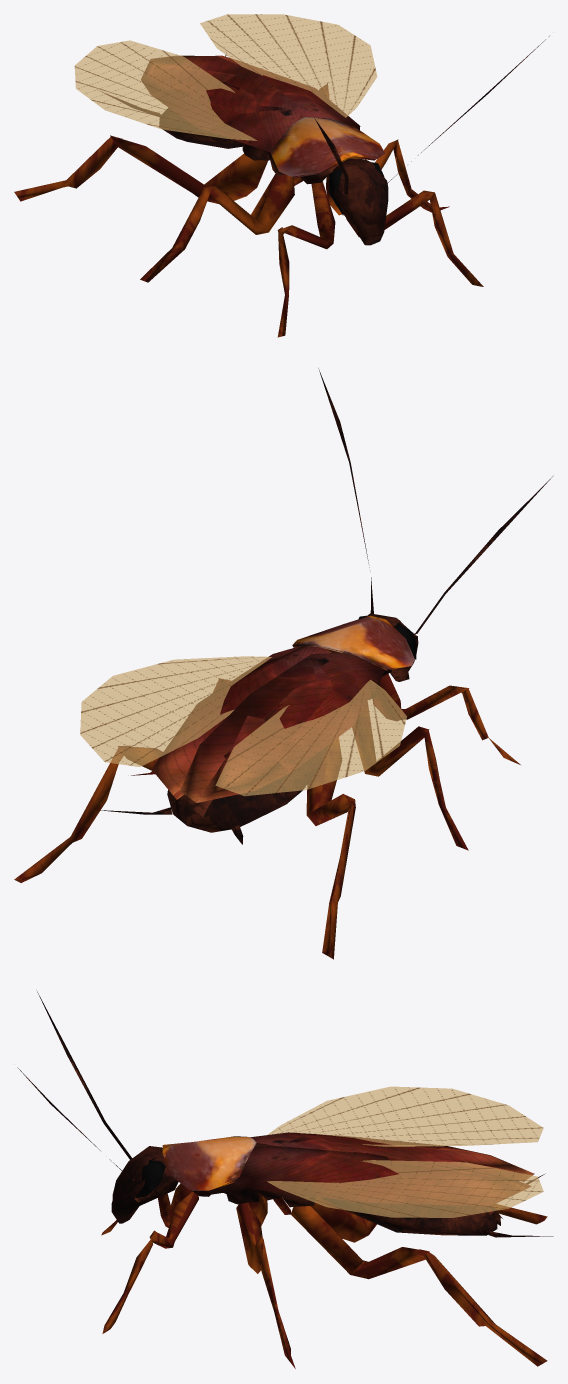
Rendered from cockroach_flight_low.glb.
3 renders of one model, top to bottom at view 1: azimuth 30°, elevation 25°; view 2: azimuth 150°, elevation 25°; view 3: azimuth 270°, elevation 25°, orthographic. The views are drawn at different scales.
Parts seen in each view (by area): view 1: body, wing_right, wing_left, elytron_left, leg_left_back, leg_left_middle, leg_left_front, elytron_right, leg_right_front, leg_right_middle; view 2: elytron_left, wing_right, wing_left, body, elytron_right, leg_left_back, leg_left_middle, leg_right_back, leg_left_front; view 3: body, elytron_right, wing_left, wing_right, leg_right_back, elytron_left, leg_right_middle, leg_left_back, leg_right_front, leg_left_front, leg_left_middle.
Boxes of the visible parts, bbox=[...] form: body: bbox=[100, 36, 549, 245]; wing_right: bbox=[200, 14, 377, 117]; wing_left: bbox=[74, 40, 257, 140]; elytron_left: bbox=[141, 55, 301, 151]; leg_left_back: bbox=[14, 135, 267, 203]; leg_left_middle: bbox=[140, 174, 294, 282]; leg_left_front: bbox=[277, 181, 335, 337]; elytron_right: bbox=[192, 55, 360, 129]; leg_right_front: bbox=[346, 190, 483, 286]; leg_right_middle: bbox=[326, 139, 449, 215]; elytron_left: bbox=[180, 652, 384, 802]; wing_right: bbox=[80, 656, 272, 766]; wing_left: bbox=[215, 680, 406, 796]; body: bbox=[97, 368, 553, 844]; elytron_right: bbox=[151, 645, 330, 799]; leg_left_back: bbox=[306, 737, 355, 959]; leg_left_middle: bbox=[352, 701, 468, 850]; leg_right_back: bbox=[14, 746, 162, 882]; leg_left_front: bbox=[373, 673, 520, 764]; body: bbox=[17, 991, 553, 1237]; elytron_right: bbox=[236, 1144, 531, 1206]; wing_left: bbox=[268, 1086, 543, 1146]; wing_right: bbox=[267, 1160, 543, 1217]; leg_right_back: bbox=[290, 1206, 547, 1366]; elytron_left: bbox=[251, 1132, 534, 1180]; leg_right_middle: bbox=[236, 1202, 295, 1368]; leg_left_back: bbox=[311, 1197, 547, 1242]; leg_right_front: bbox=[102, 1191, 198, 1333]; leg_left_front: bbox=[101, 1183, 191, 1235]; leg_left_middle: bbox=[249, 1193, 290, 1225].
Size of the model in its own units: 1.88 by 1.68 by 2.79.
2 materials, 2 textured.
